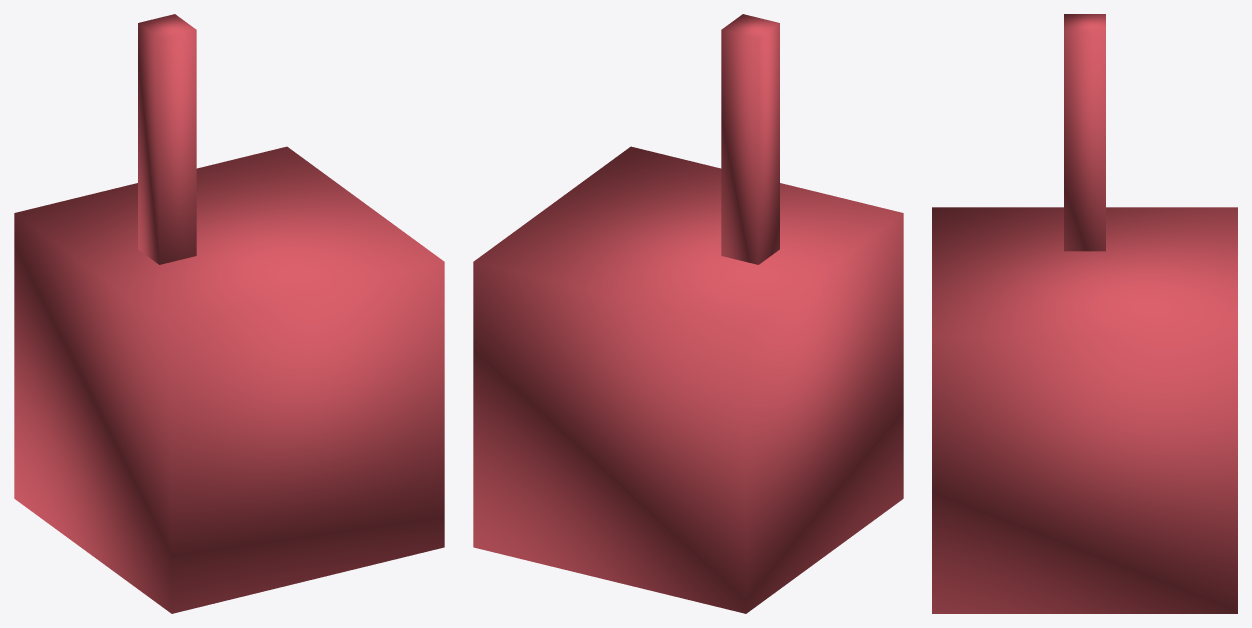
Rendered from EntourageEnemy.obj.
3 renders of one model, left to right at view 1: azimuth 30°, elevation 25°; view 2: azimuth 150°, elevation 25°; view 3: azimuth 270°, elevation 25°, orthographic. The views are drawn at different scales.
Parts seen in each view (by area): view 1: 立方体.003; view 2: 立方体.003; view 3: 立方体.003.
Part boxes in pixels (x1=…): 立方体.003: x1=14, y1=14, x2=444, y2=613; 立方体.003: x1=473, y1=14, x2=903, y2=613; 立方体.003: x1=932, y1=14, x2=1237, y2=613.
Size of the model in its own units: 2 by 3.58 by 2.
Materials: 1 (1 with a texture image).
